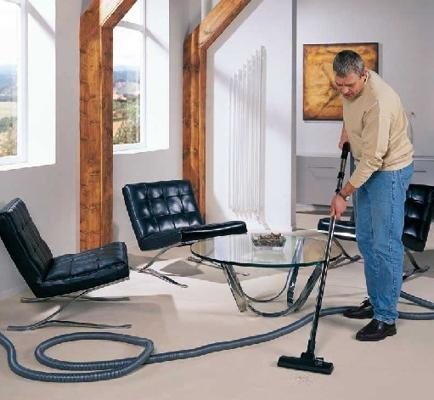person: (330, 50, 414, 344)
